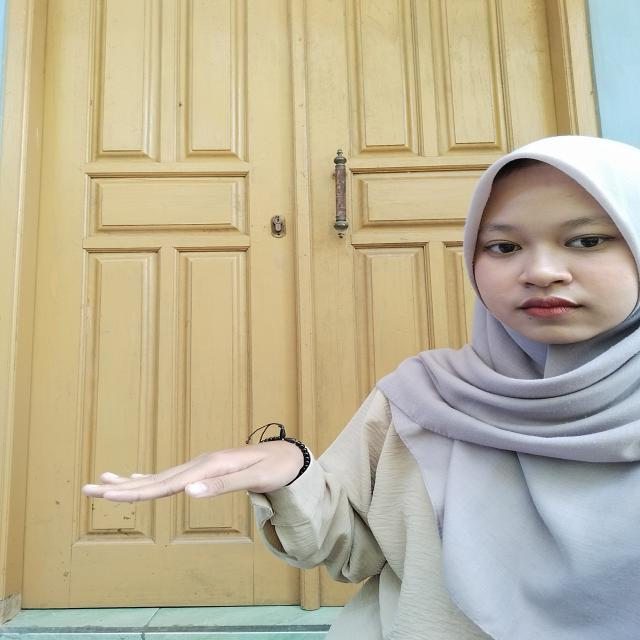adik: (50, 418, 319, 516)
